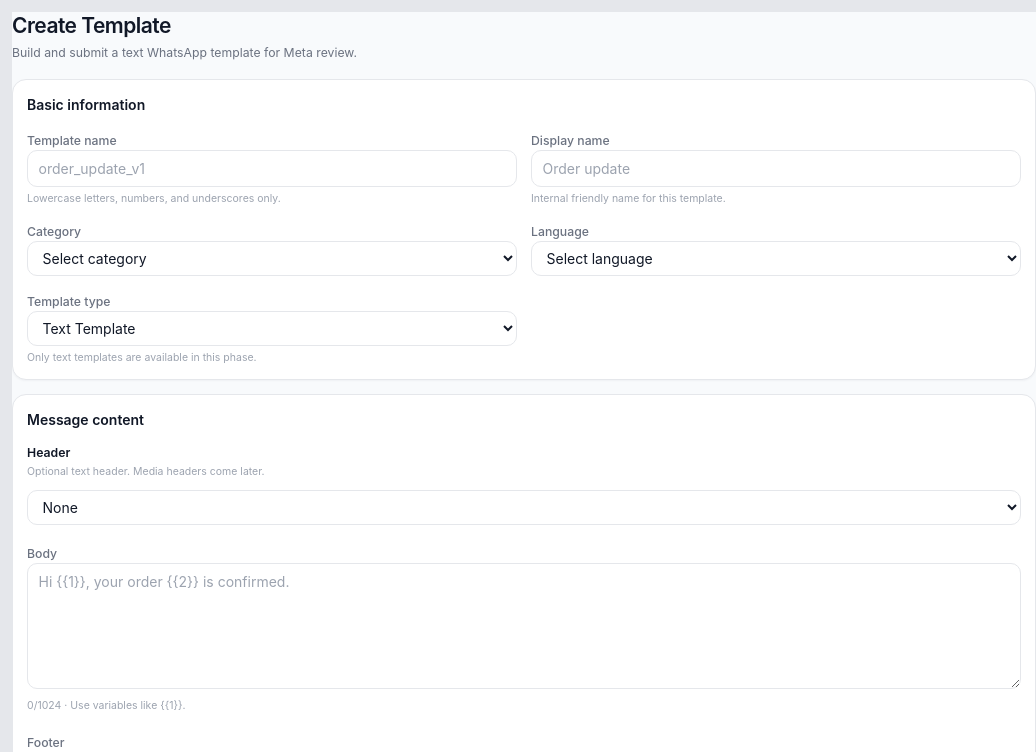
Test case: shows required errors after a touched field is cleared
This screenshot has width=1036, height=752.
Type "order_confirmation_v1" into the field labelled "Template name".
click(272, 168); type("order_confirmation_v1")  # box [27,150,517,186]
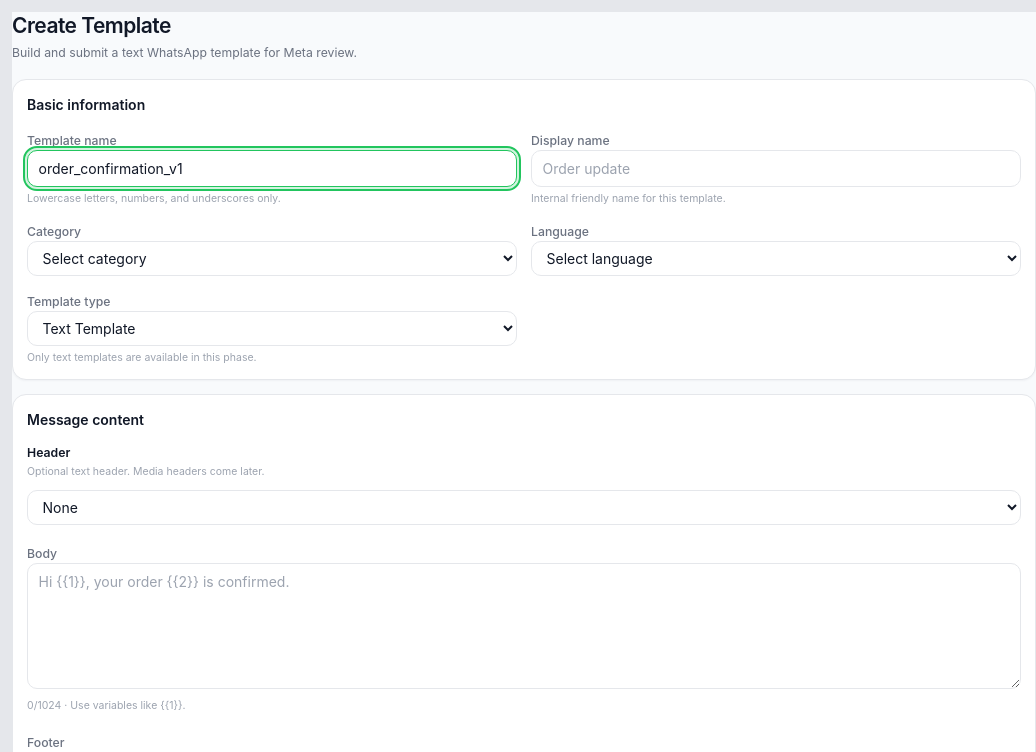
Clear the field labelled "Template name" at (272, 168), box [27,150,517,186]
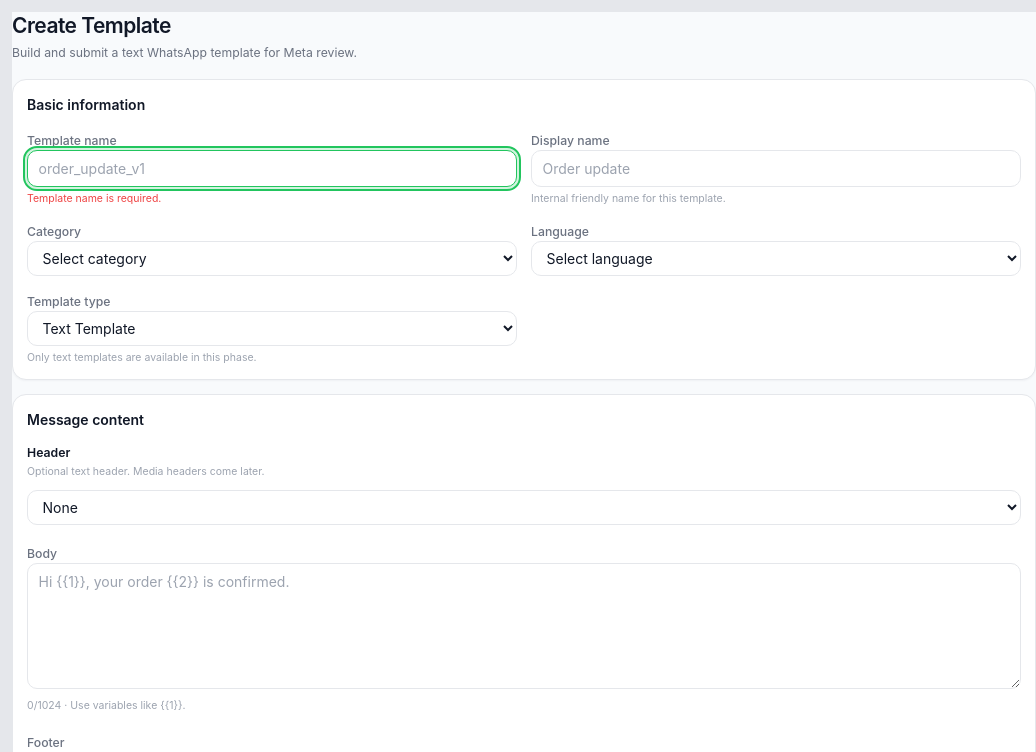
Expected: the text "Template name is required." is shown, [27,192,161,205]
